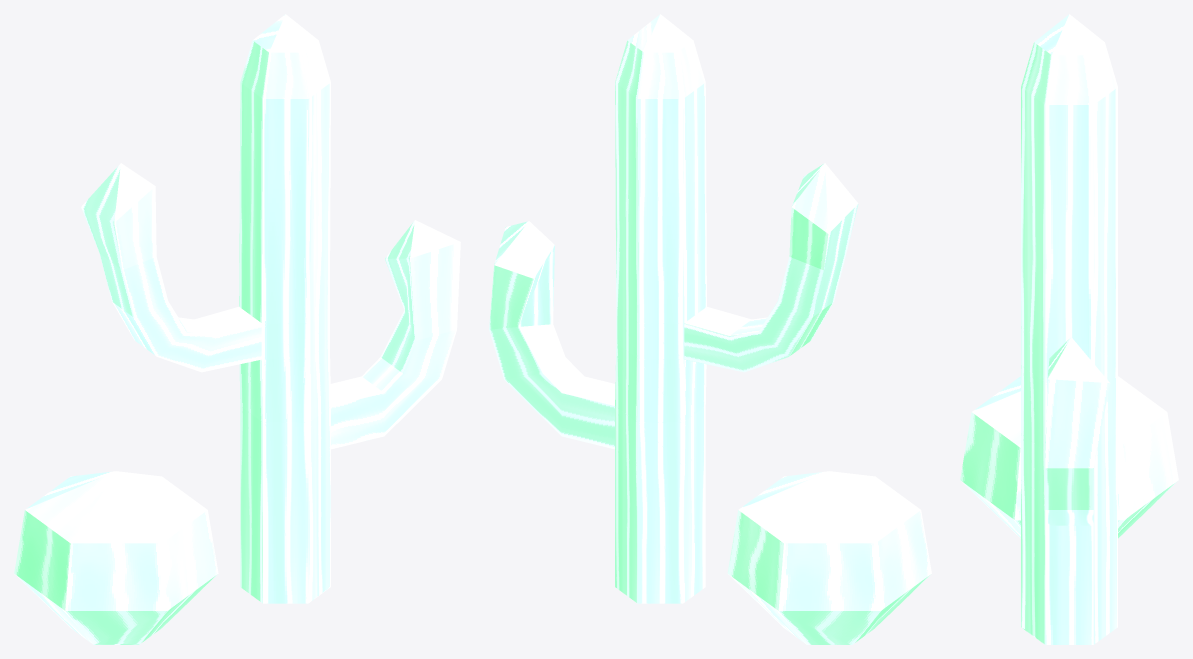
File: cactus.glb
3 renders of one model, left to right at view 1: azimuth 30°, elevation 25°; view 2: azimuth 150°, elevation 25°; view 3: azimuth 270°, elevation 25°, orthographic. The views are drawn at different scales.
Visible parts, largest first — view 1: cactus-tall, cactus-fat; view 2: cactus-tall, cactus-fat; view 3: cactus-tall, cactus-fat.
Part boxes in pixels (x1,y1,x2,y2): cactus-tall: [81, 14, 460, 603]; cactus-fat: [14, 471, 218, 644]; cactus-tall: [489, 14, 858, 603]; cactus-fat: [727, 471, 931, 644]; cactus-tall: [1021, 14, 1117, 644]; cactus-fat: [960, 376, 1178, 538].
Size of the model in its own units: 1.57 by 2.09 by 0.6759.
